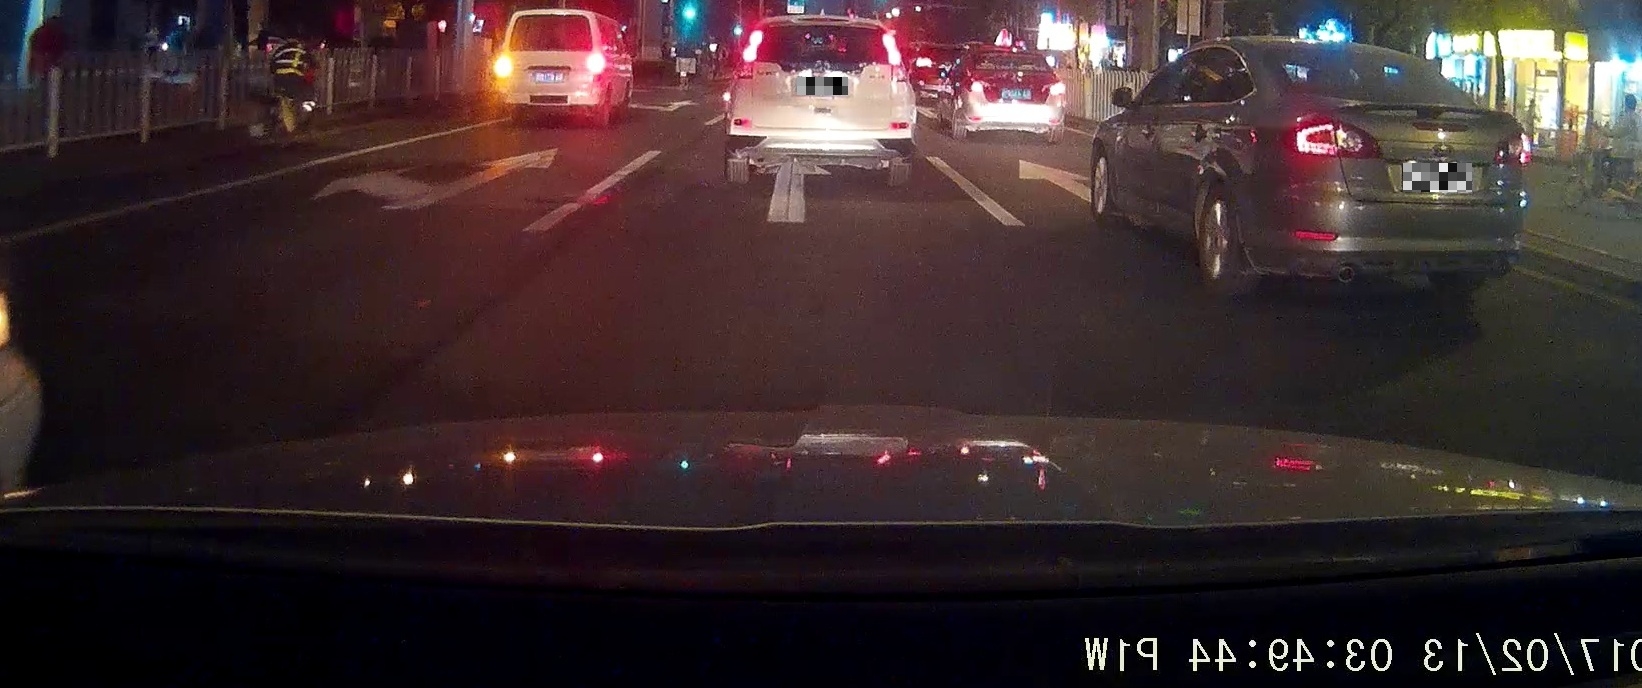L_light: (1283, 115, 1383, 159), (736, 30, 763, 79), (494, 53, 511, 83), (970, 81, 983, 94)
R_light: (1492, 127, 1530, 165), (881, 34, 908, 82), (589, 53, 604, 81), (1049, 81, 1066, 95)
T_light: (1335, 50, 1372, 62), (809, 24, 836, 34), (542, 13, 560, 22), (1004, 53, 1020, 59)
night-left: (494, 8, 605, 128)
night-no: (1262, 36, 1531, 294), (724, 14, 917, 187), (970, 47, 1066, 143)
plate_1: (797, 77, 848, 95)
plate_2: (1403, 163, 1472, 192)
